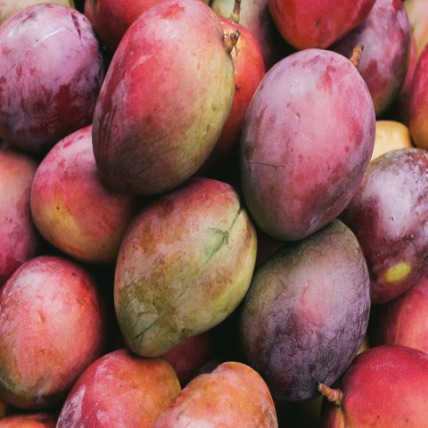mango: (74, 0, 250, 204), (238, 23, 380, 243), (95, 176, 274, 349), (233, 215, 379, 405)
